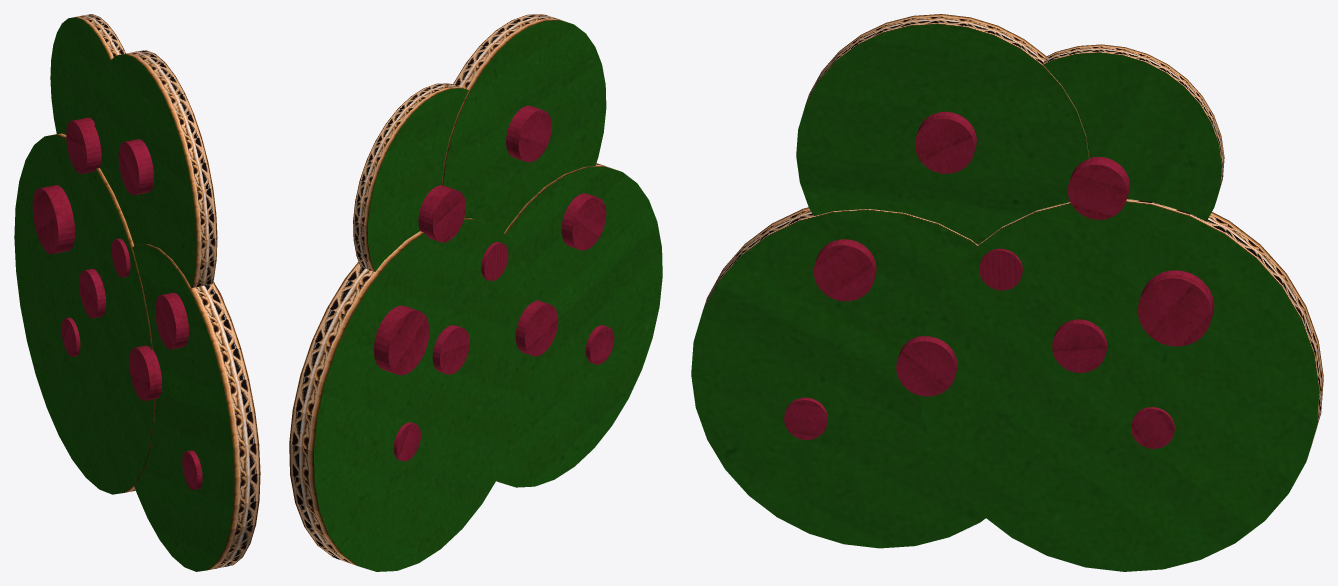
The model's file is kust2.fbx.
The picture shows the model from 3 angles, left to right: view 1: azimuth 30°, elevation 25°; view 2: azimuth 150°, elevation 25°; view 3: azimuth 270°, elevation 25°; orthographic projection. The views are drawn at different scales.
Visible parts, largest first — view 1: kust.007; view 2: kust.007; view 3: kust.007.
Boxes of the visible parts, x1,y1,x2,y2 form: kust.007: [14, 14, 260, 571]; kust.007: [289, 14, 662, 571]; kust.007: [691, 14, 1323, 571].
Size of the model in its own units: 1054 by 5108 by 5517.
2 materials, 2 textured.
